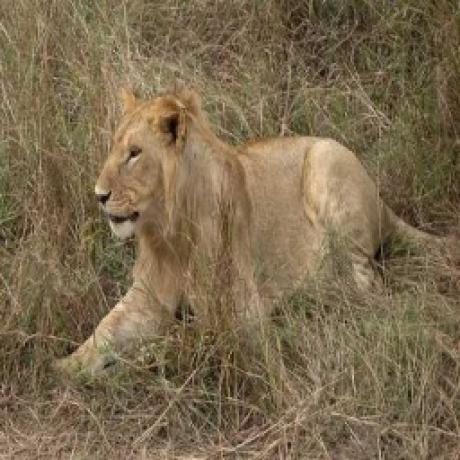Lion: (66, 83, 448, 369)
